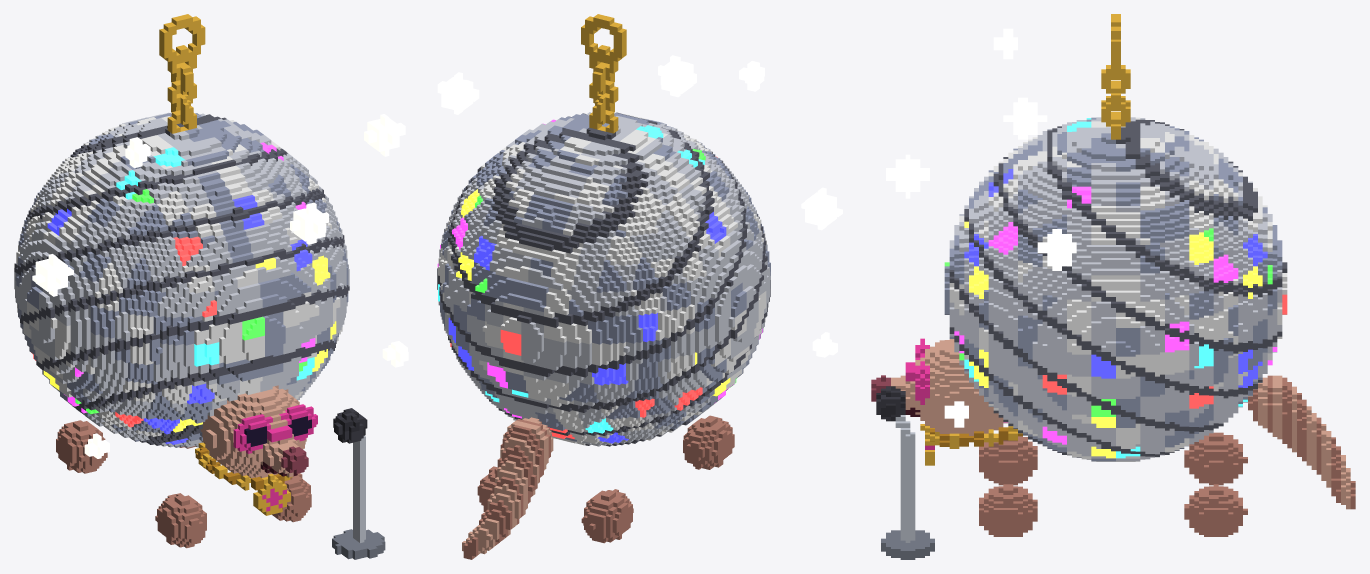
File: discopalla_armadillo.glb
The picture shows the model from 3 angles, left to right: view 1: azimuth 30°, elevation 25°; view 2: azimuth 150°, elevation 25°; view 3: azimuth 270°, elevation 25°; orthographic projection. The views are drawn at different scales.
Parts seen in each view (by area): view 1: SM_Brainrot_discopalla_armadillo; view 2: SM_Brainrot_discopalla_armadillo; view 3: SM_Brainrot_discopalla_armadillo.
Part boxes in pixels (<box>): SM_Brainrot_discopalla_armadillo: <box>14,14,408,559</box>; SM_Brainrot_discopalla_armadillo: <box>437,14,842,559</box>; SM_Brainrot_discopalla_armadillo: <box>871,14,1355,559</box>.
Bounding box in the file's own units: 5.64 × 6.66 × 5.94.
1 material, 1 textured.
